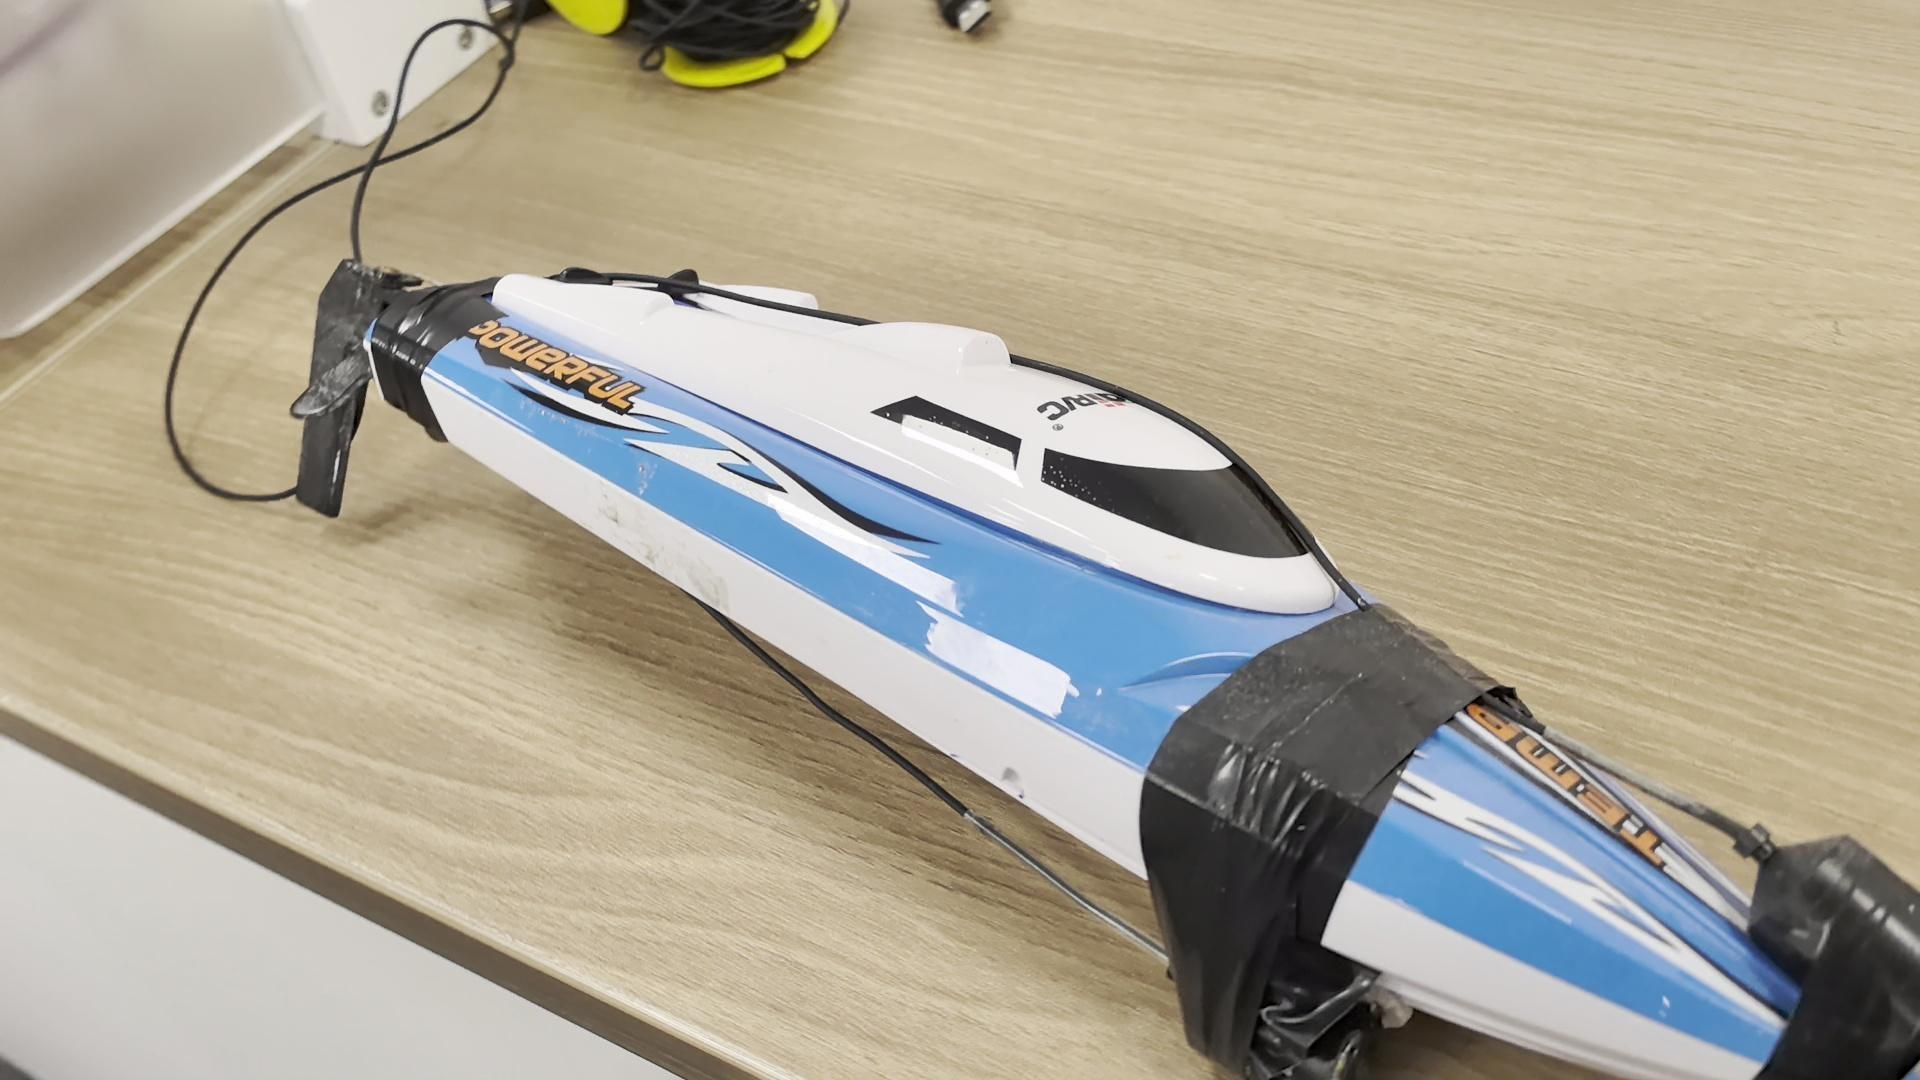Boat: (327, 252, 1894, 1073)
